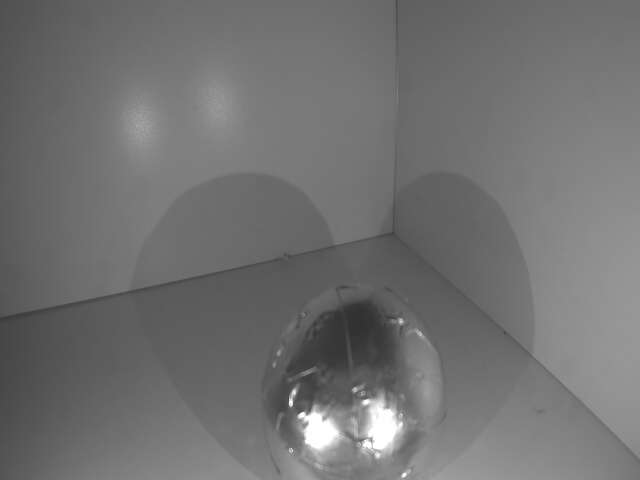Live: (259, 277, 450, 480)
